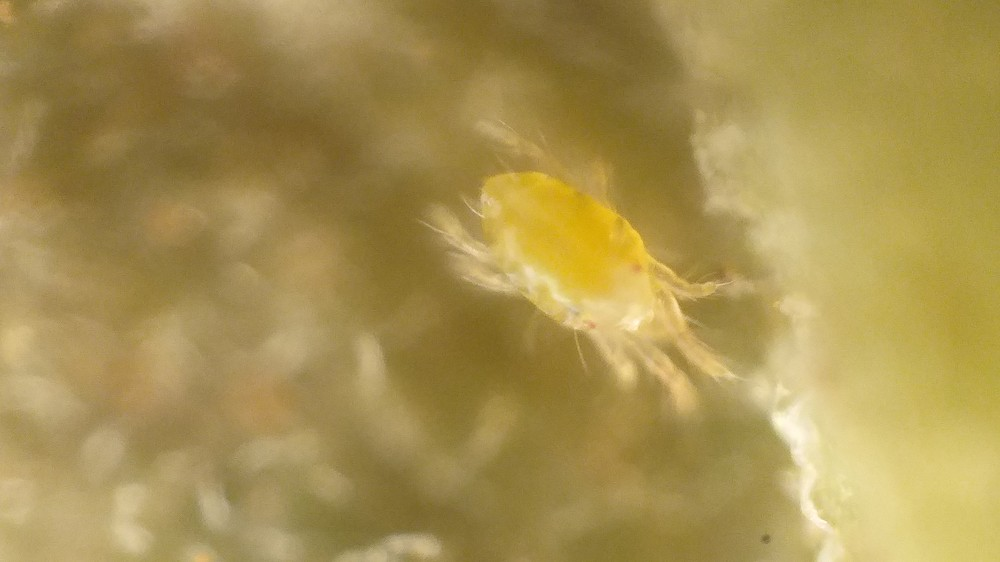Aracnido Rojo: (405, 103, 792, 441)
